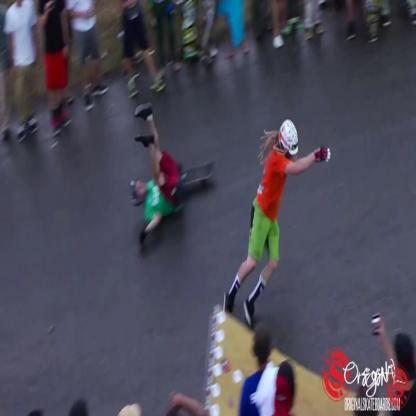Fall_Down: (128, 96, 186, 258)
